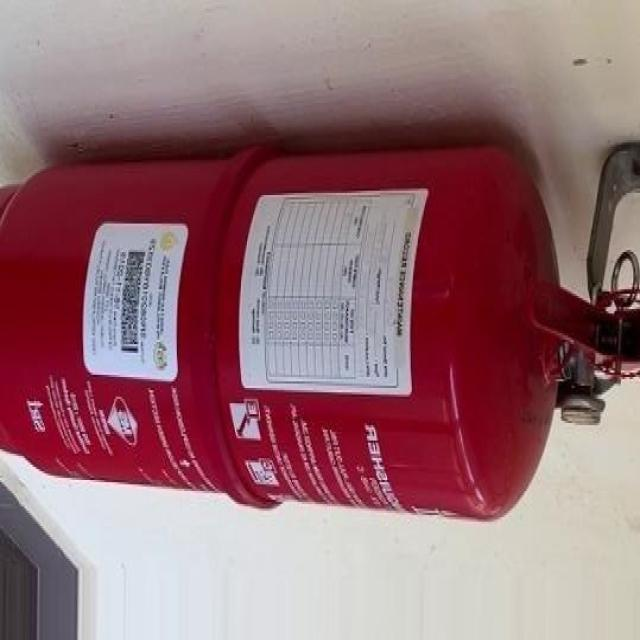fire_extinguisher: (0, 123, 638, 526)
